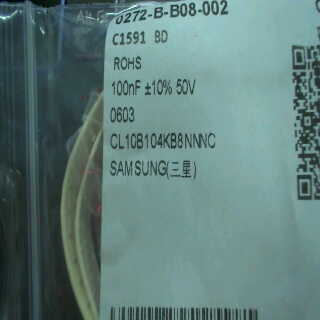100nF: (106, 76, 145, 98)
